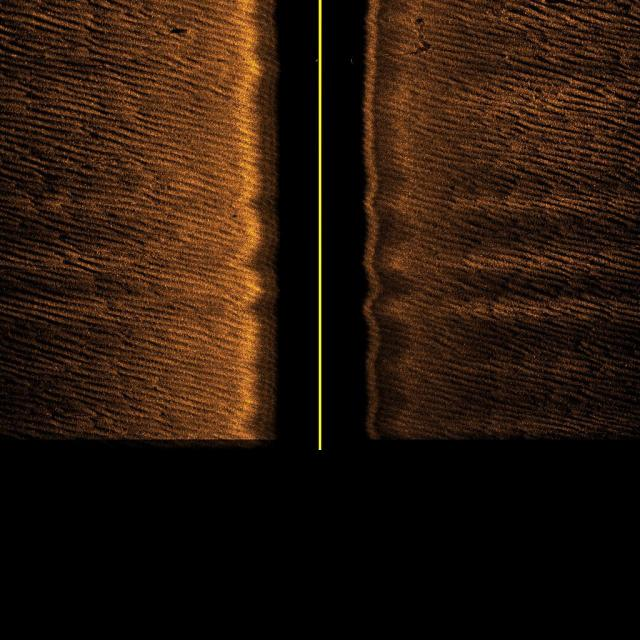mine: (166, 26, 193, 36)
